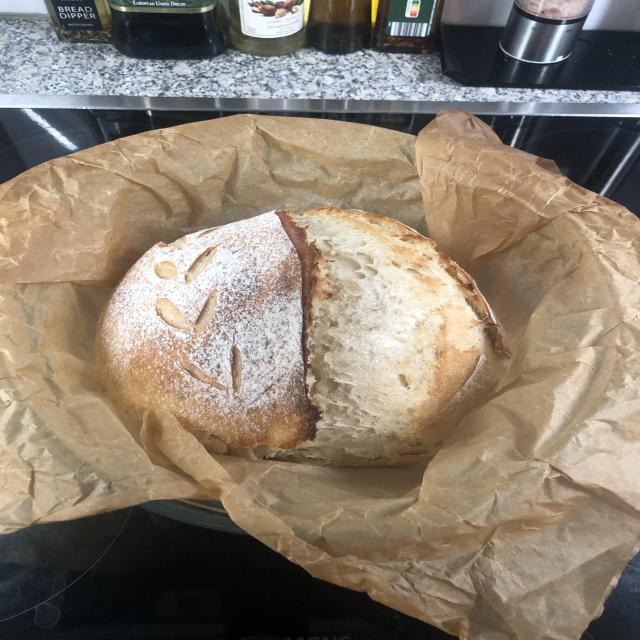Maltese-Bread: (96, 207, 511, 466)
